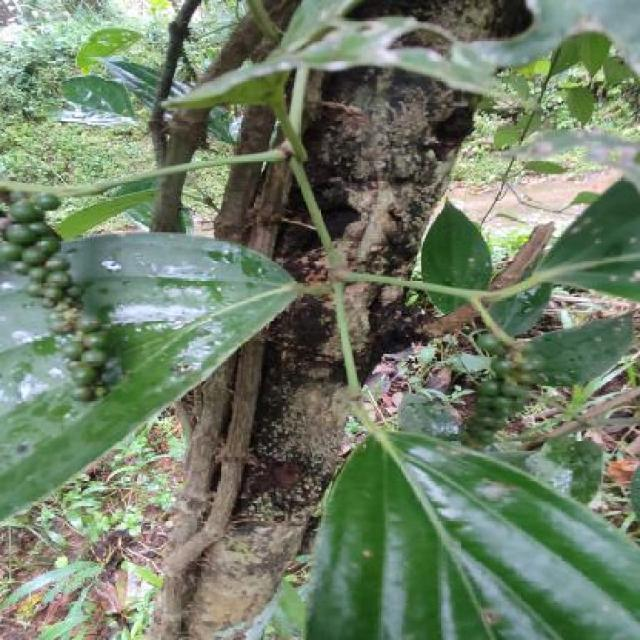UNRIPE: (3, 189, 109, 400), (460, 331, 545, 446)
